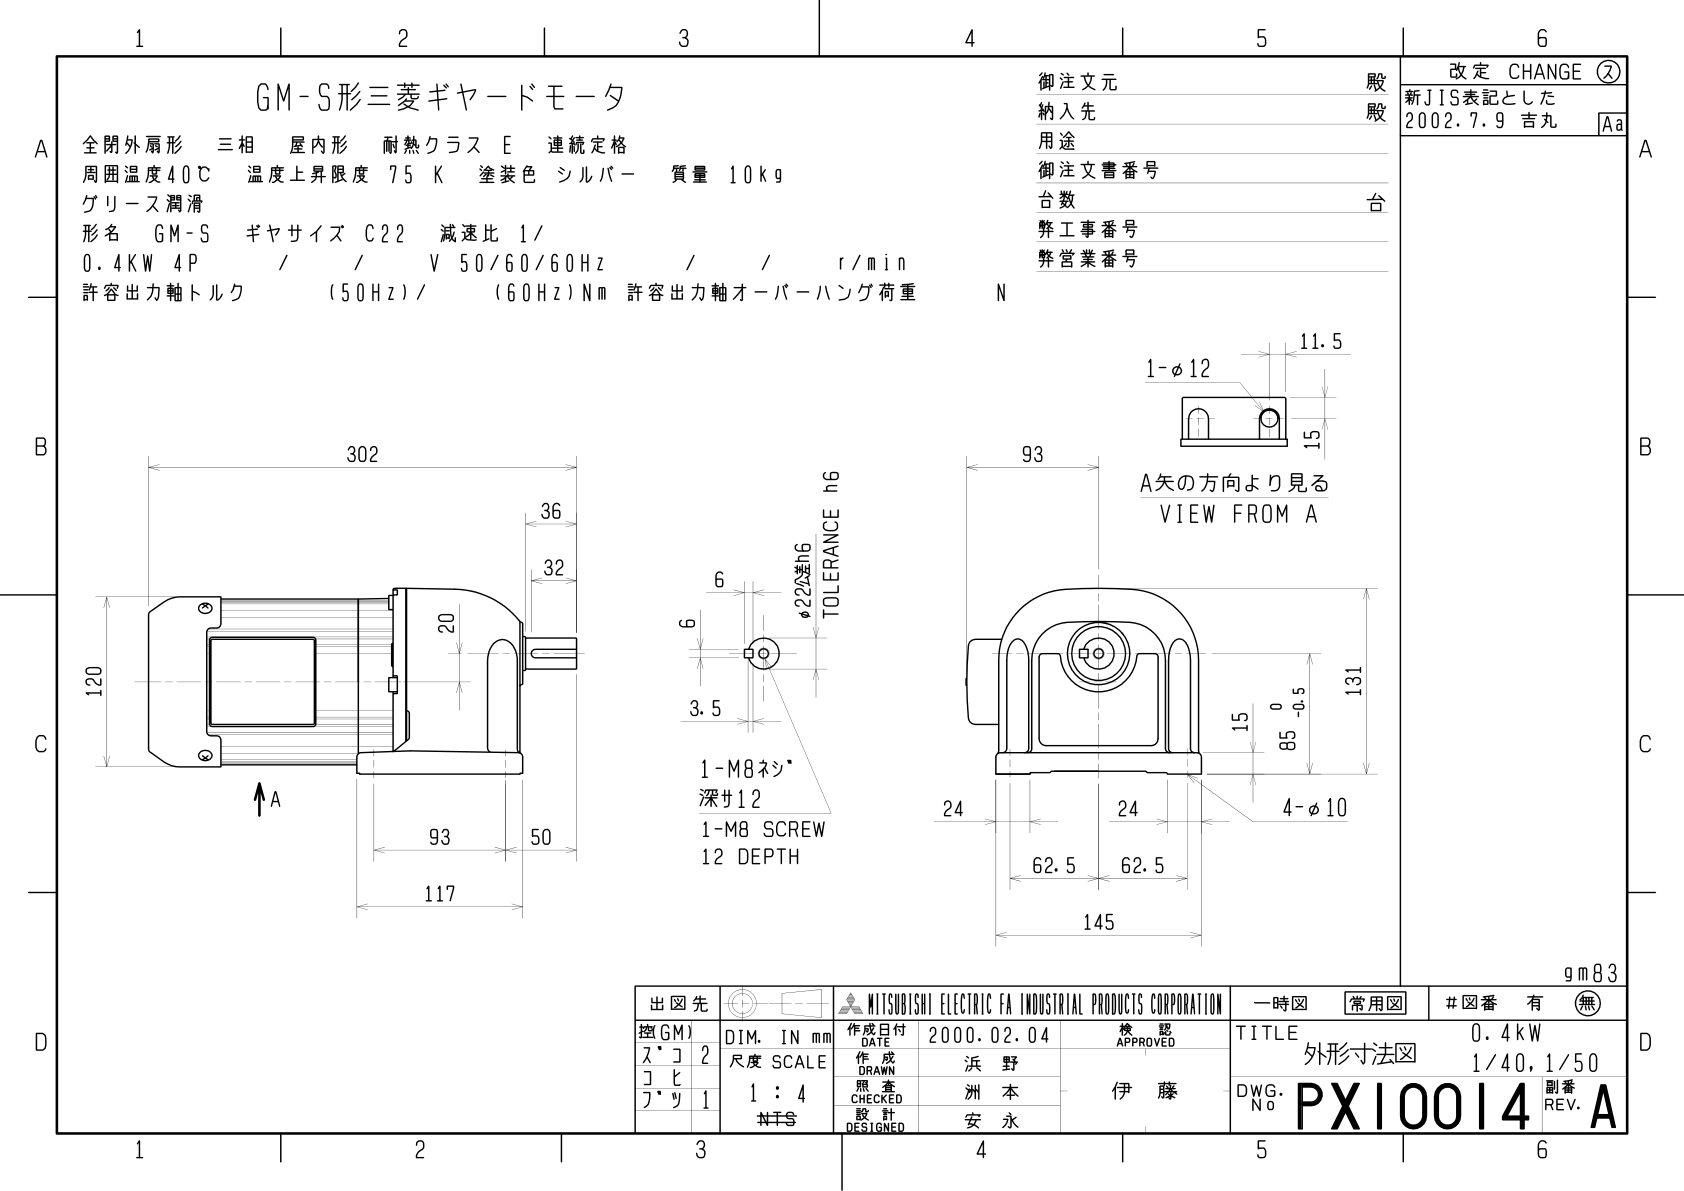GM_S_屋内＿三相_脚: (9, 3, 1684, 1191)
